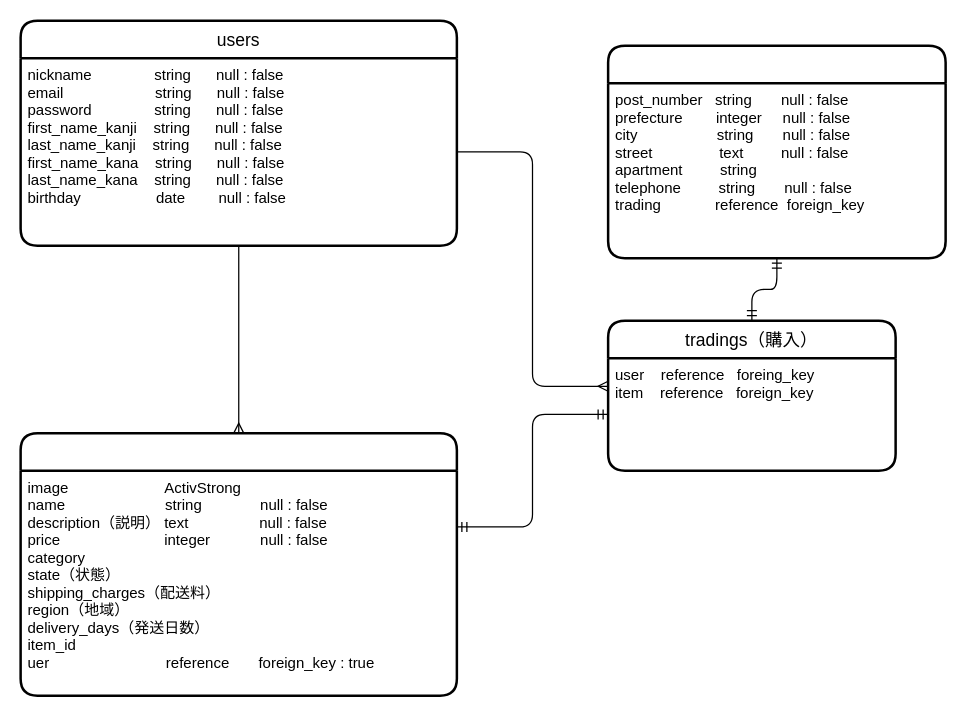
Some shapes in this 966 by 716 pixel diagram are drawn without their labels. The shapes that lost their labels are listed below. From the top down, each one's box as (x1, y1, x2, y2) in pixels, then its label:
(606, 44, 946, 259): destinations（送り先）
(19, 431, 458, 696): items
